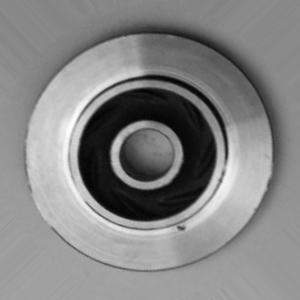defect: (168, 214, 197, 242)
